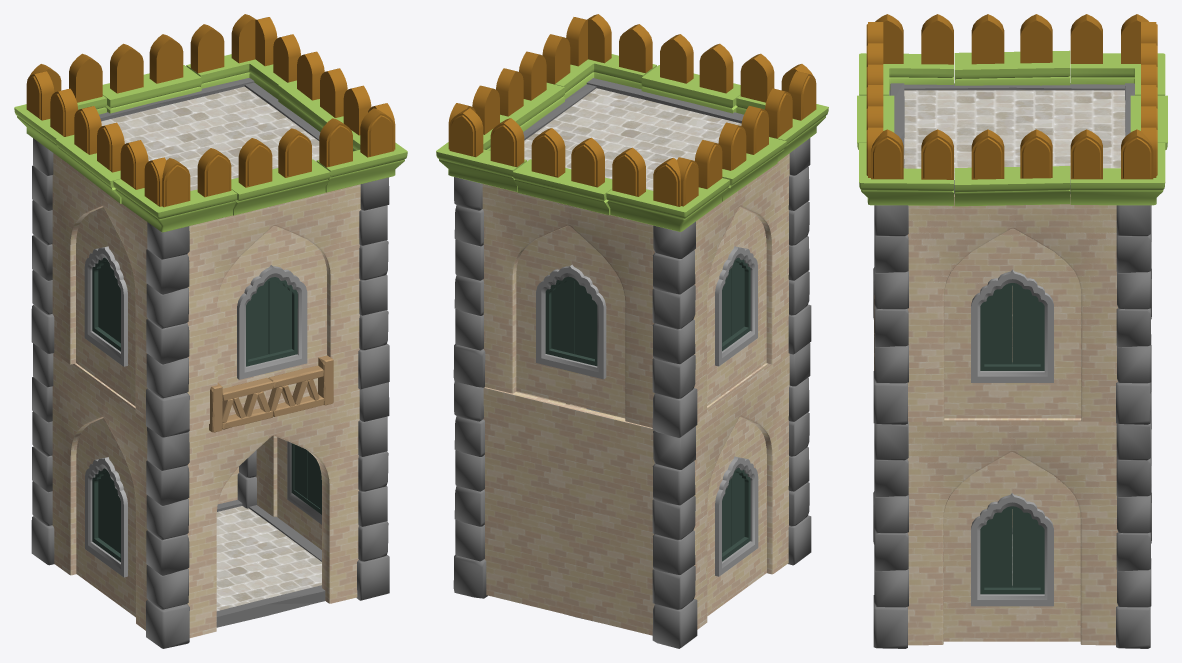
The model's file is SM_house_desert_small_01.fbx.
3 views of the same model, side by side, from view 1: azimuth 30°, elevation 25°; view 2: azimuth 150°, elevation 25°; view 3: azimuth 270°, elevation 25° (orthographic). The views are drawn at different scales.
Visible parts, largest first — view 1: Object33151; view 2: Object33151; view 3: Object33151.
Boxes of the visible parts, x1,y1,x2,y2 form: Object33151: [14, 14, 407, 648]; Object33151: [436, 14, 828, 648]; Object33151: [857, 14, 1167, 648].
Bounding box in the file's own units: 219 × 397 × 217.
